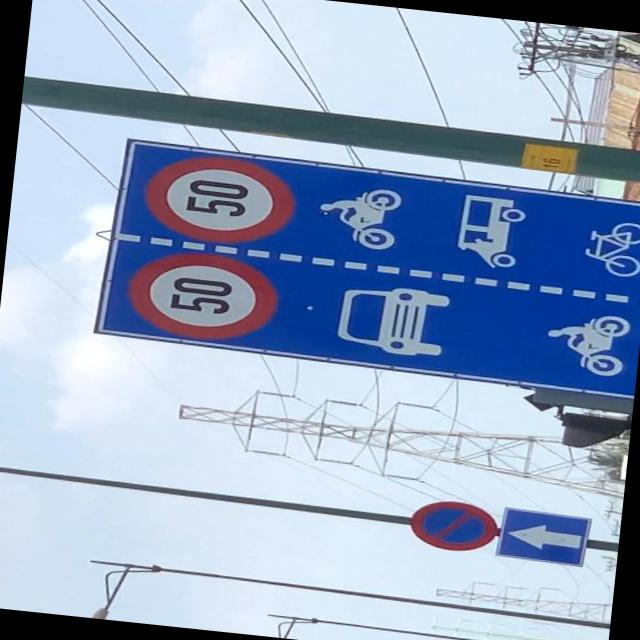I-407a: (496, 507, 586, 564)
P-131a: (406, 496, 500, 554)
